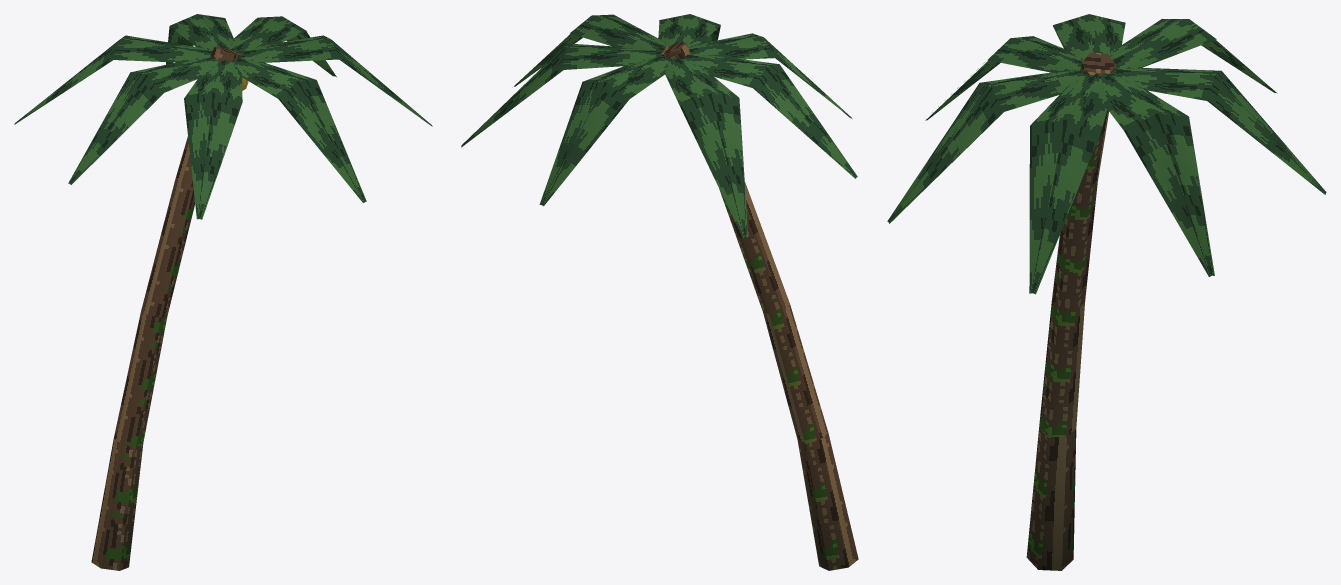
File: wild.palm__leaning.glb
3 views of the same model, side by side, from view 1: azimuth 30°, elevation 25°; view 2: azimuth 150°, elevation 25°; view 3: azimuth 270°, elevation 25° (orthographic). The views are drawn at different scales.
Visible parts, largest first — view 1: kit_shell_crown, kit_trunk; view 2: kit_shell_crown, kit_trunk; view 3: kit_shell_crown, kit_trunk.
Part boxes in pixels (box(x1,y1,x2,y2)): kit_shell_crown: box(14, 14, 432, 219); kit_trunk: box(91, 46, 240, 570); kit_shell_crown: box(461, 14, 857, 237); kit_trunk: box(660, 41, 858, 570); kit_shell_crown: box(887, 14, 1326, 294); kit_trunk: box(1026, 52, 1116, 570).
Bounding box in the file's own units: 5.02 × 6.61 × 4.49.
3 materials, 3 textured.
